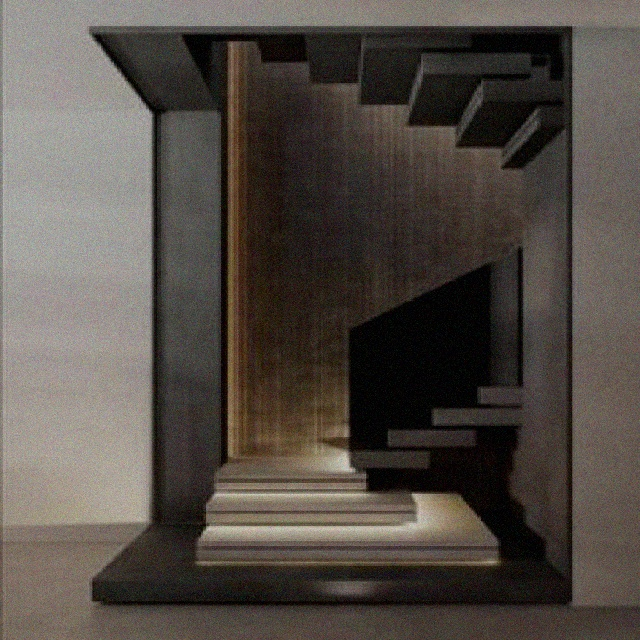stair: (180, 425, 563, 580)
